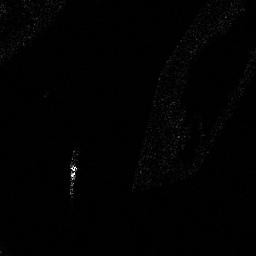ship: (67, 163, 78, 195)
